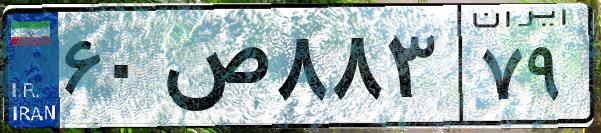0: (110, 28, 158, 98)
3: (385, 28, 445, 110)
6: (57, 26, 110, 100)
7: (475, 38, 525, 113)
8: (270, 28, 330, 110), (330, 28, 385, 110)
9: (525, 38, 570, 115)
ص: (158, 20, 270, 120)
